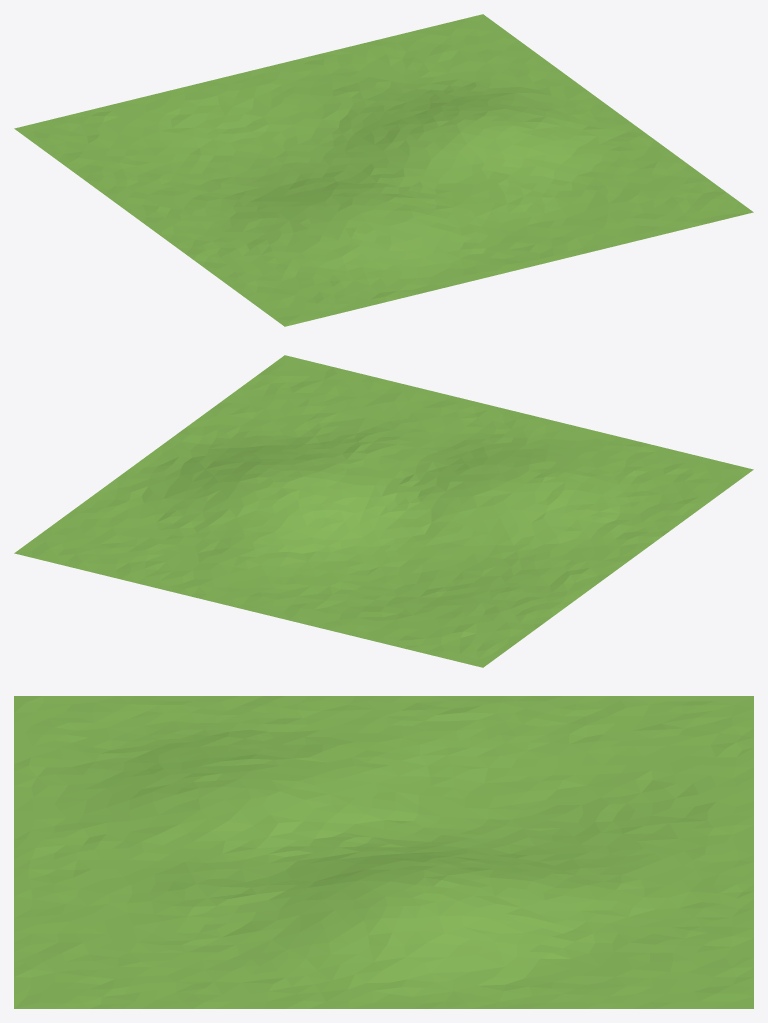
File: MT_Terrain_L_a_04.fbx
3 renders of one model, top to bottom at view 1: azimuth 30°, elevation 25°; view 2: azimuth 150°, elevation 25°; view 3: azimuth 270°, elevation 25°, orthographic. The views are drawn at different scales.
Visible parts, largest first — view 1: MT_Terrain_L_a_04; view 2: MT_Terrain_L_a_04; view 3: MT_Terrain_L_a_04.
Boxes of the visible parts, box(x1,y1,x2,y2) form: MT_Terrain_L_a_04: box(14, 14, 753, 326); MT_Terrain_L_a_04: box(14, 355, 753, 667); MT_Terrain_L_a_04: box(14, 696, 753, 1008).
Bounding box in the file's own units: 10000 × 486 × 10000.
